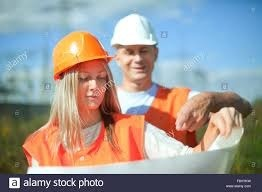helmet: (51, 29, 115, 81), (109, 12, 161, 49)
person with full safety: (20, 29, 146, 160)
person with partial safety: (111, 12, 185, 115)
safety vest: (116, 82, 196, 146), (25, 114, 142, 156)
